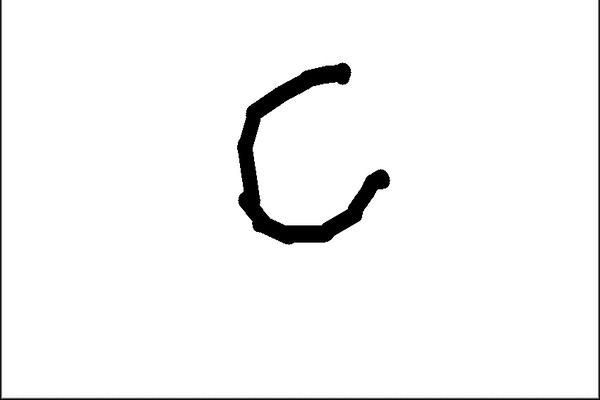C: (229, 56, 396, 249)
